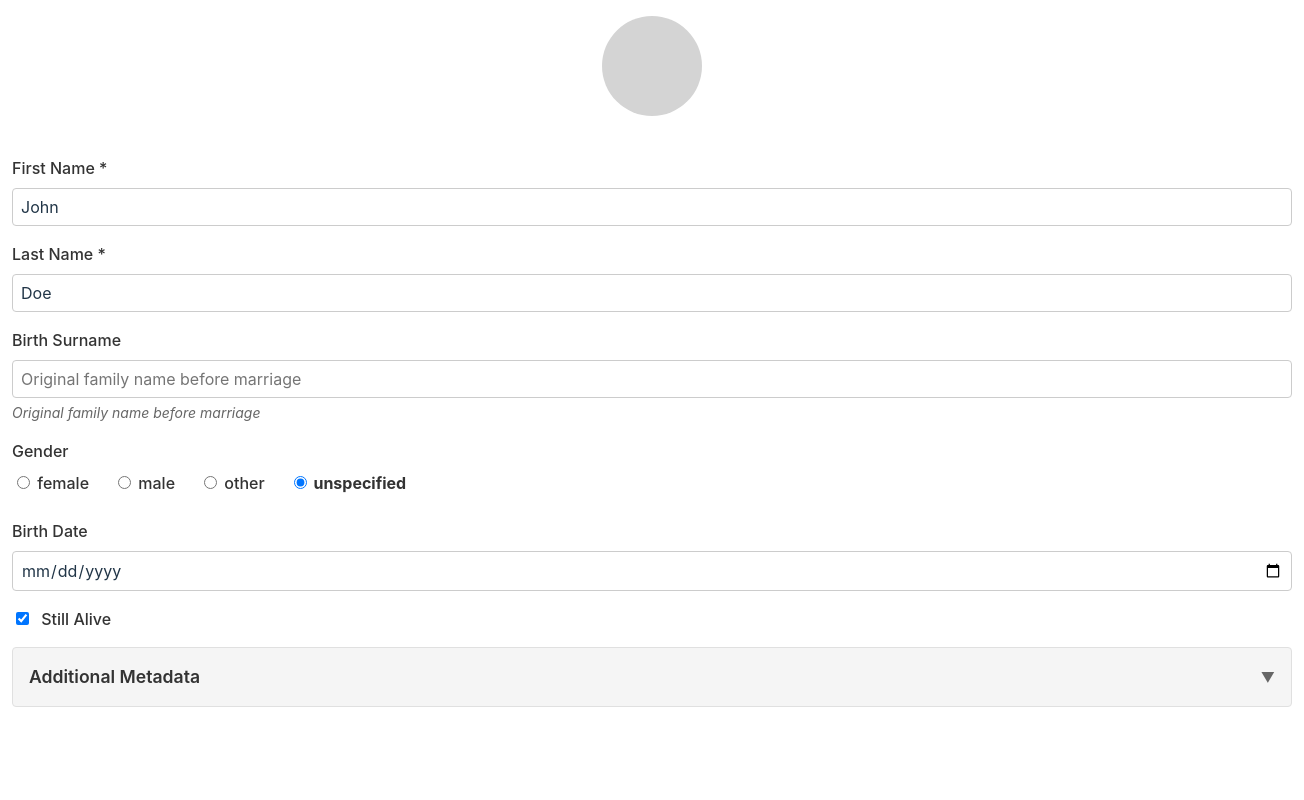
Test: PersonFormFields - Photo Preview Integration › Additional Metadata Collapsible Section › AC2: Photo URL field moved to section › should allow editing Photo URL when section is expanded
This screenshot has width=1304, height=800.
Click the button with class "section-header". click: (115, 676)
box: [12, 647, 1292, 707]
(page scrolled)
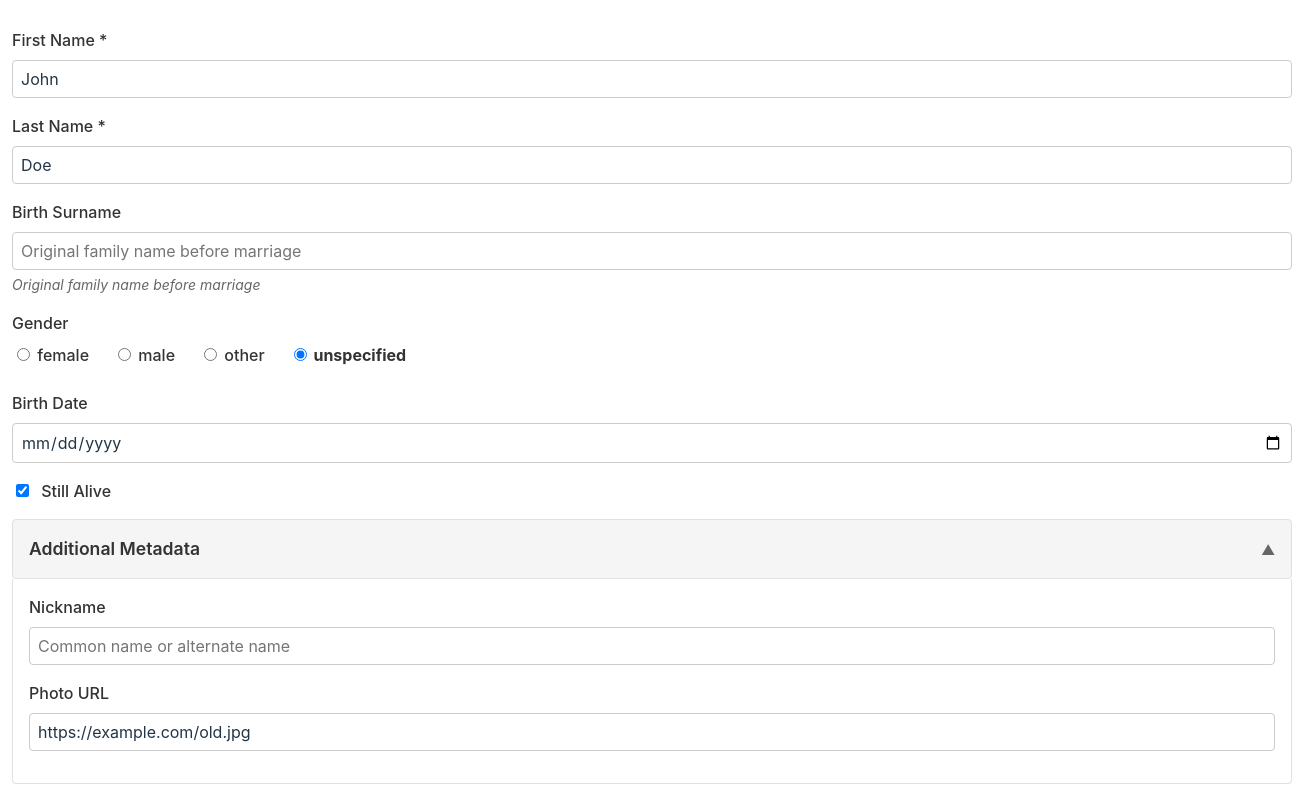
expect the field labelled "Photo URL" holds "https://example.com/old.jpg": met, box [29, 713, 1275, 751]
expect the field labelled "Photo URL" is enabled: met, box [29, 713, 1275, 751]
